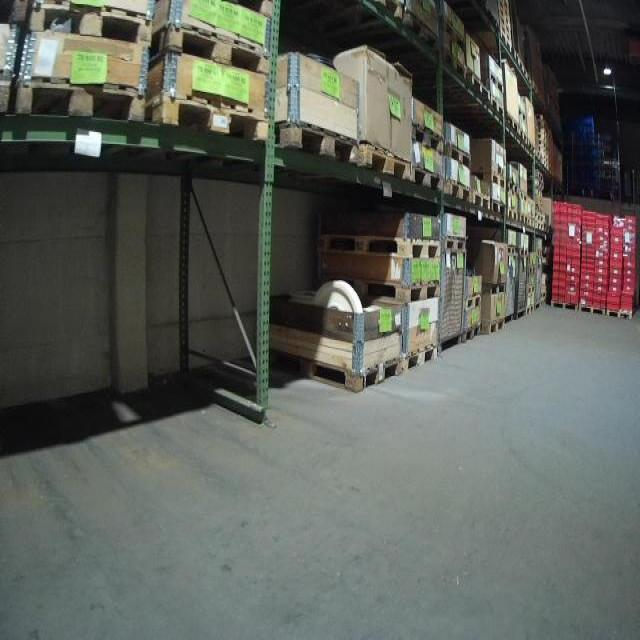pallet: (11, 77, 148, 127), (151, 22, 273, 78), (265, 346, 402, 394), (146, 91, 270, 144), (27, 1, 153, 47), (275, 115, 361, 165), (319, 229, 442, 260), (318, 274, 440, 304), (356, 140, 412, 180), (402, 10, 440, 52), (401, 338, 437, 378), (409, 120, 445, 156), (411, 164, 445, 192), (443, 50, 467, 82), (368, 0, 402, 22), (443, 142, 471, 168), (471, 169, 505, 189), (444, 179, 472, 203), (468, 73, 490, 102), (472, 189, 492, 213), (481, 319, 505, 337), (442, 236, 467, 253), (462, 323, 481, 345), (486, 71, 504, 94), (486, 95, 504, 118), (463, 292, 482, 312), (578, 303, 607, 316), (606, 309, 633, 321), (482, 282, 505, 296), (550, 301, 578, 311), (505, 114, 519, 133), (516, 55, 528, 77), (490, 200, 505, 216), (506, 207, 519, 222), (506, 182, 519, 195), (518, 106, 527, 122), (519, 191, 528, 203), (519, 214, 528, 225), (526, 217, 535, 228), (526, 304, 535, 315), (527, 285, 536, 296), (507, 245, 516, 255), (518, 248, 529, 256), (528, 266, 537, 275), (540, 292, 546, 299), (537, 250, 543, 257)
stillage: (433, 246, 471, 355), (496, 249, 517, 324), (513, 249, 533, 322), (533, 252, 545, 312)
